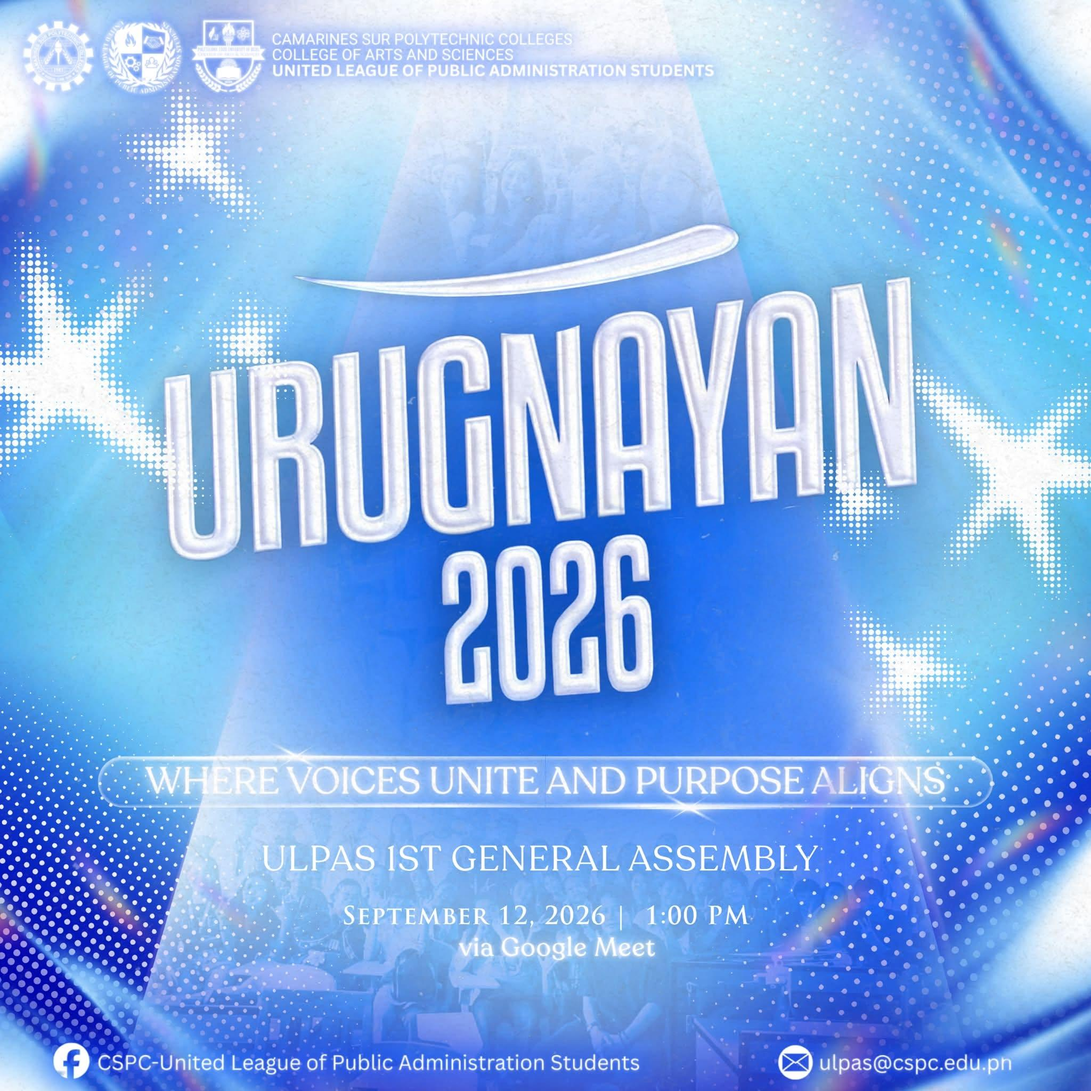embellishment: (304, 221, 747, 298), (41, 1030, 96, 1087), (772, 1039, 816, 1081)
logo: (94, 9, 190, 102), (190, 12, 274, 103), (20, 11, 99, 101)
text: (156, 264, 926, 713), (268, 18, 734, 99), (139, 764, 950, 804), (332, 904, 761, 970), (254, 838, 825, 882), (92, 1046, 648, 1076), (815, 1051, 1021, 1078)
underlay: (96, 750, 997, 806)
